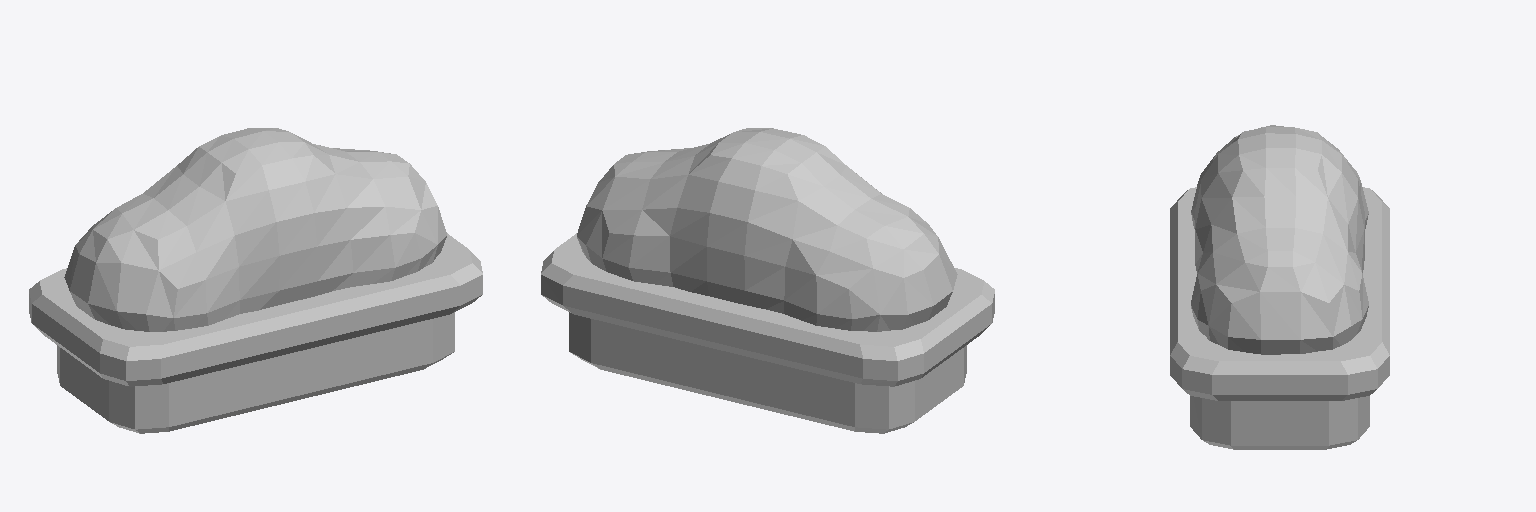
The model's file is flower_box_straight.obj.
3 renders of one model, left to right at view 1: azimuth 30°, elevation 25°; view 2: azimuth 150°, elevation 25°; view 3: azimuth 270°, elevation 25°, orthographic.
Parts seen in each view (by area): view 1: flower_box_straight; view 2: flower_box_straight; view 3: flower_box_straight.
Part boxes in pixels (x1,y1,x2,y2): flower_box_straight: (29,128,482,433); flower_box_straight: (541,128,994,433); flower_box_straight: (1170,125,1389,449).
Size of the model in its own units: 2 by 1.16 by 1.